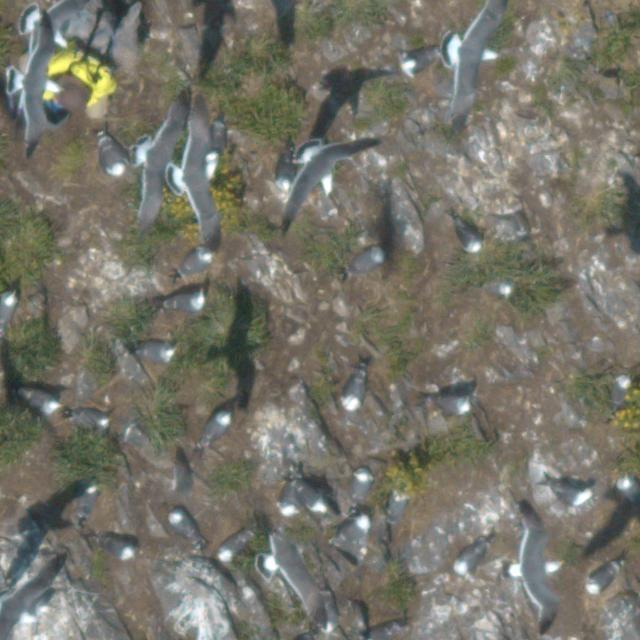F: (284, 135, 363, 226), (515, 510, 570, 630), (140, 91, 188, 222), (13, 23, 67, 136), (451, 2, 504, 108), (173, 133, 221, 227), (263, 526, 318, 600)
umineko: (300, 482, 328, 513), (456, 544, 484, 574), (585, 564, 615, 592), (103, 142, 127, 176), (549, 482, 589, 502), (203, 411, 228, 441), (403, 50, 438, 71), (162, 294, 202, 312), (351, 250, 383, 272), (344, 372, 364, 407), (182, 251, 212, 273), (26, 393, 59, 413), (434, 396, 470, 414), (139, 342, 175, 360), (459, 225, 482, 252), (353, 470, 372, 501), (74, 410, 108, 427), (169, 511, 191, 537), (104, 540, 134, 559), (221, 534, 244, 556), (0, 294, 15, 327), (348, 520, 370, 542), (282, 484, 298, 514), (612, 376, 628, 404), (76, 489, 95, 512), (617, 478, 638, 498), (325, 602, 339, 632), (486, 281, 514, 295)
